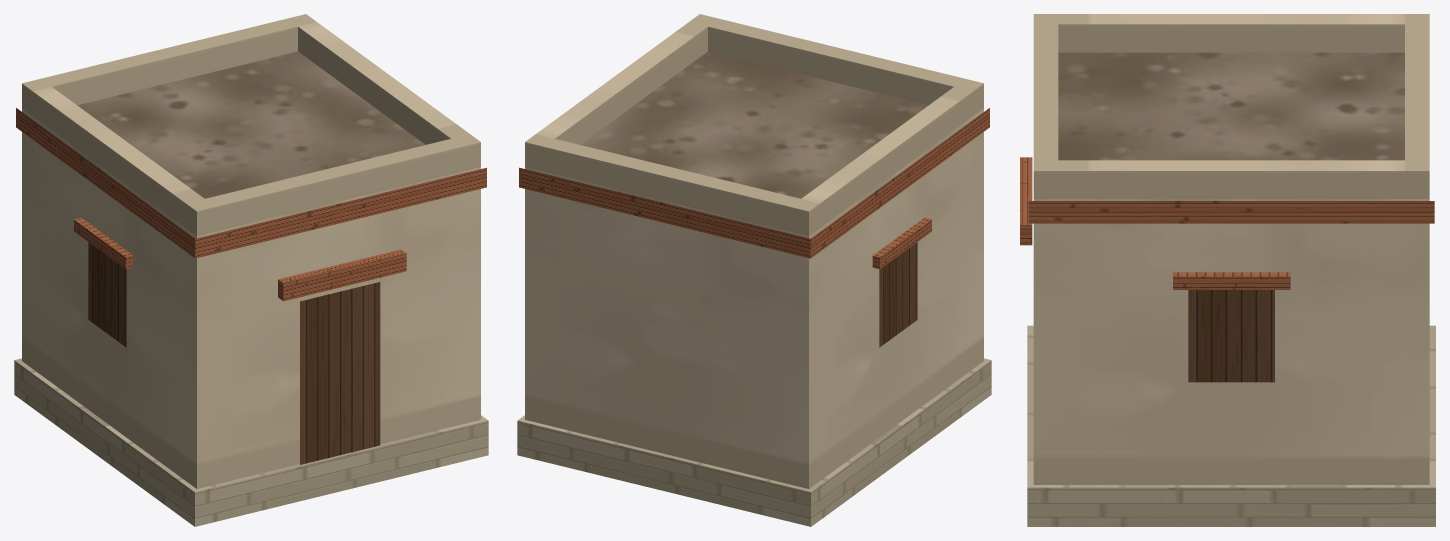
Rendered from ae_sand_stone_small_hut_lod1.glb.
3 renders of one model, left to right at view 1: azimuth 30°, elevation 25°; view 2: azimuth 150°, elevation 25°; view 3: azimuth 270°, elevation 25°, orthographic. The views are drawn at different scales.
Visible parts, largest first — view 1: ae_sand_stone_small_hut_lod1; view 2: ae_sand_stone_small_hut_lod1; view 3: ae_sand_stone_small_hut_lod1.
Part boxes in pixels (<box>): ae_sand_stone_small_hut_lod1: <box>14,14,488,526</box>; ae_sand_stone_small_hut_lod1: <box>517,14,991,526</box>; ae_sand_stone_small_hut_lod1: <box>1020,14,1435,526</box>.
Bounding box in the file's own units: 3.2 × 3.15 × 3.36.
Materials: 1 (1 with a texture image).
